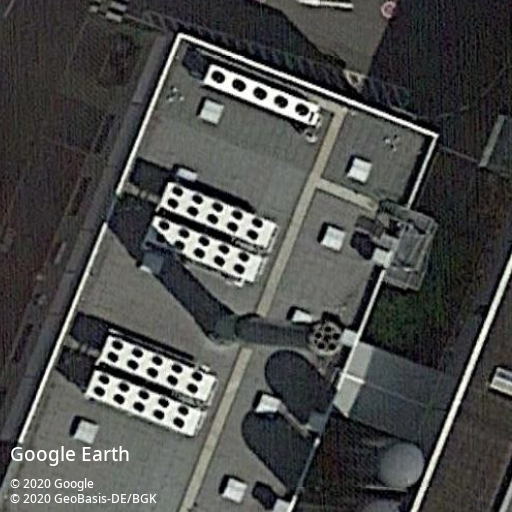Chiller: (158, 181, 280, 248), (145, 215, 263, 283), (86, 369, 203, 436), (99, 335, 216, 400), (201, 63, 319, 126)
